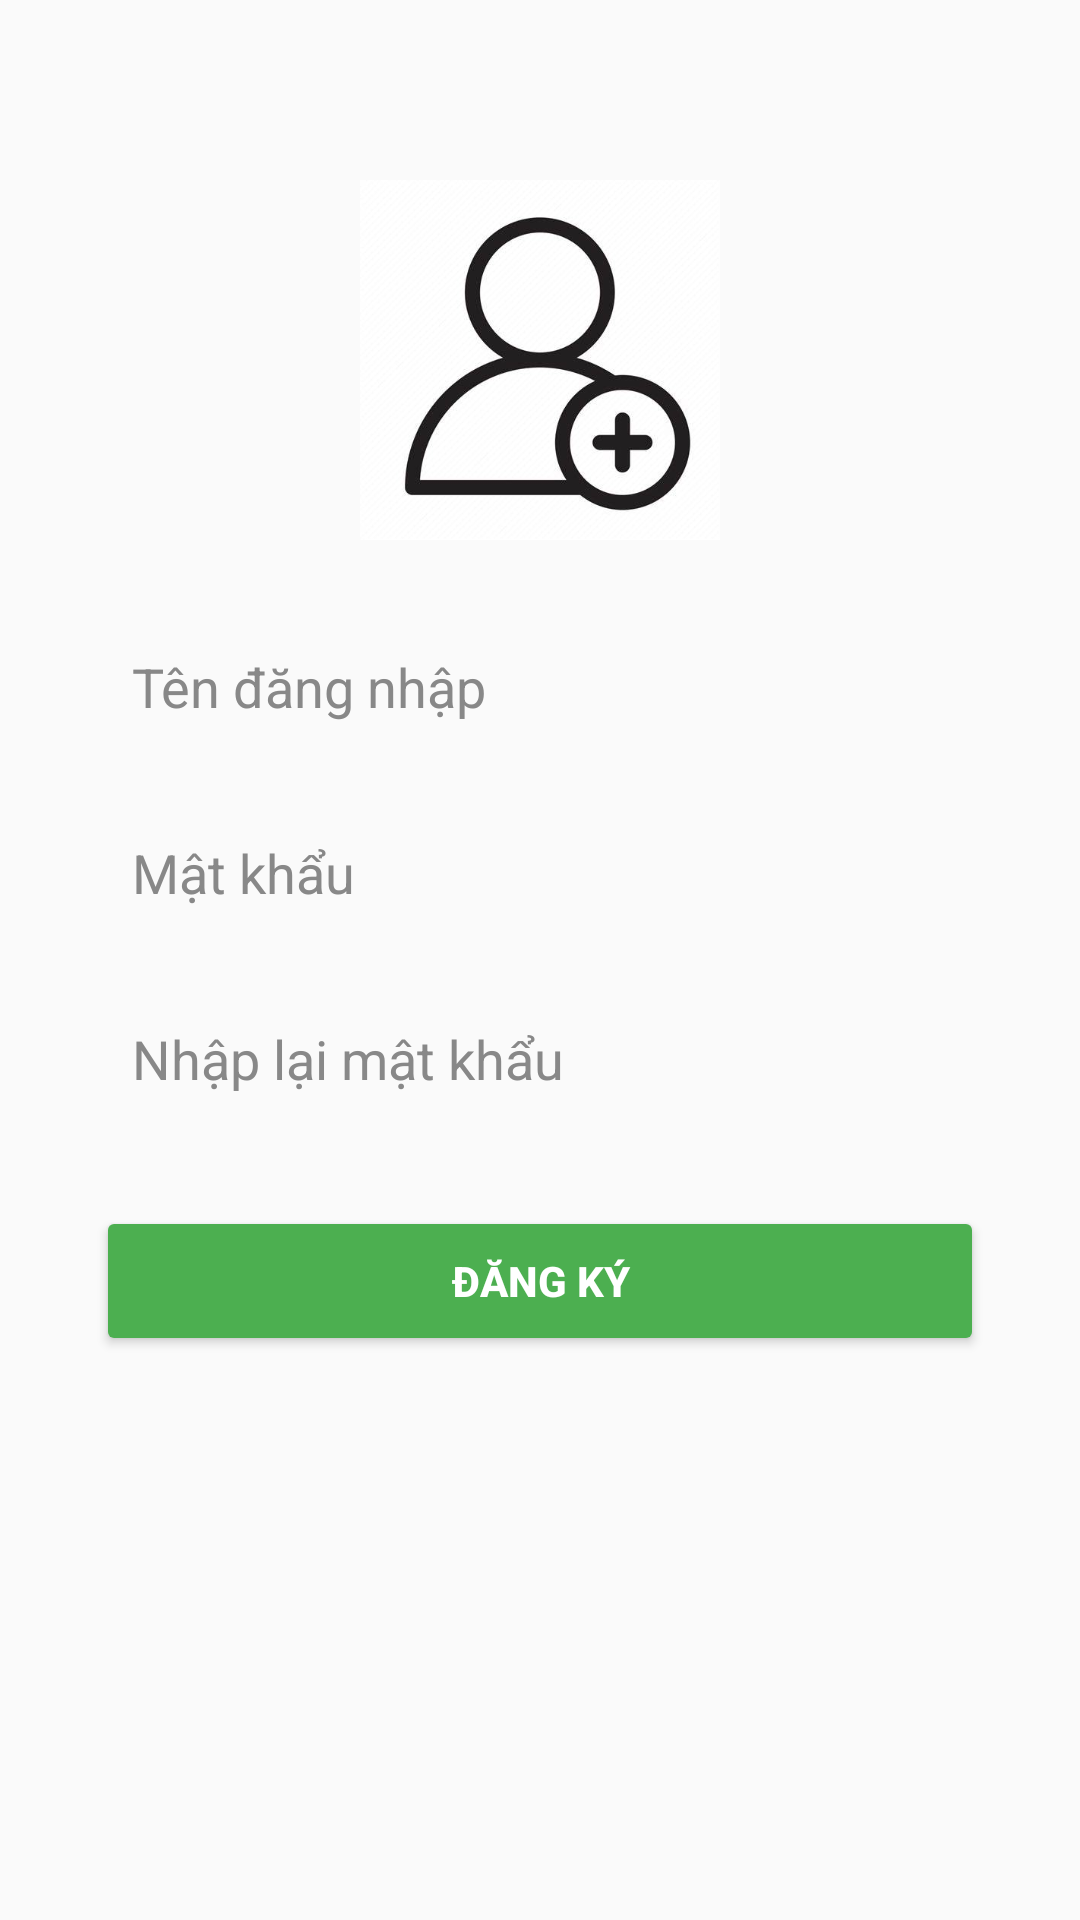

Icons on this 1080×1920 Android screen, each with the point to tap as point (x, y):
register: point (548, 364)
